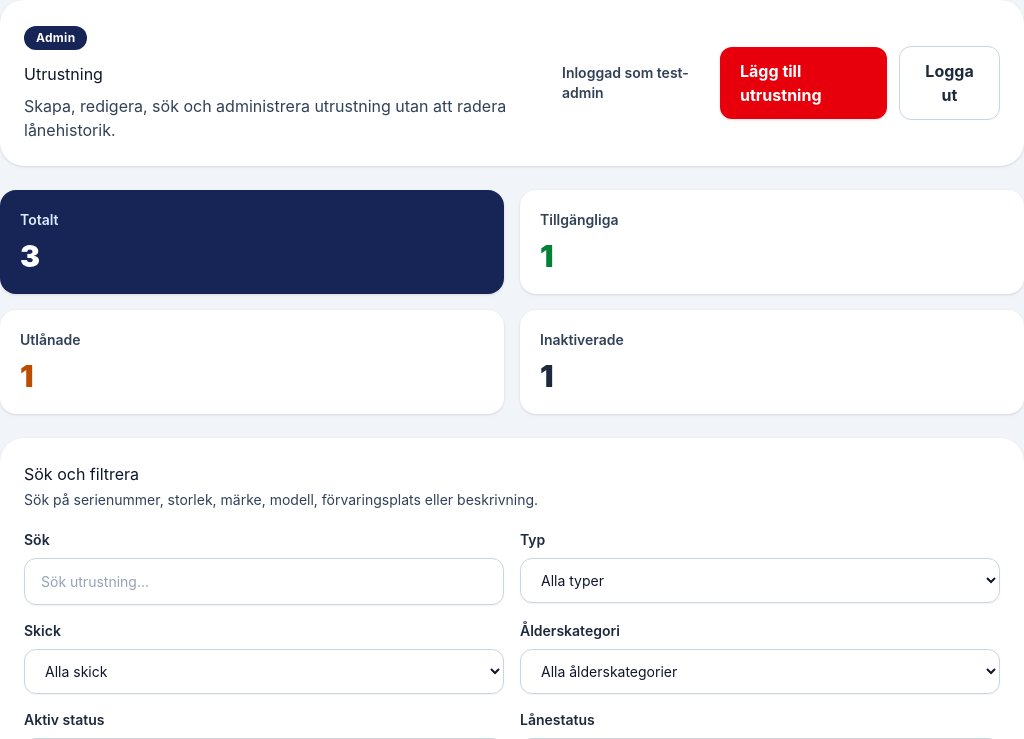
Test: AdminPage › searches across brand, model and storage location
Type "Warrior" into the search field labelled "Sök" at (264, 582), box [24,558,504,605]
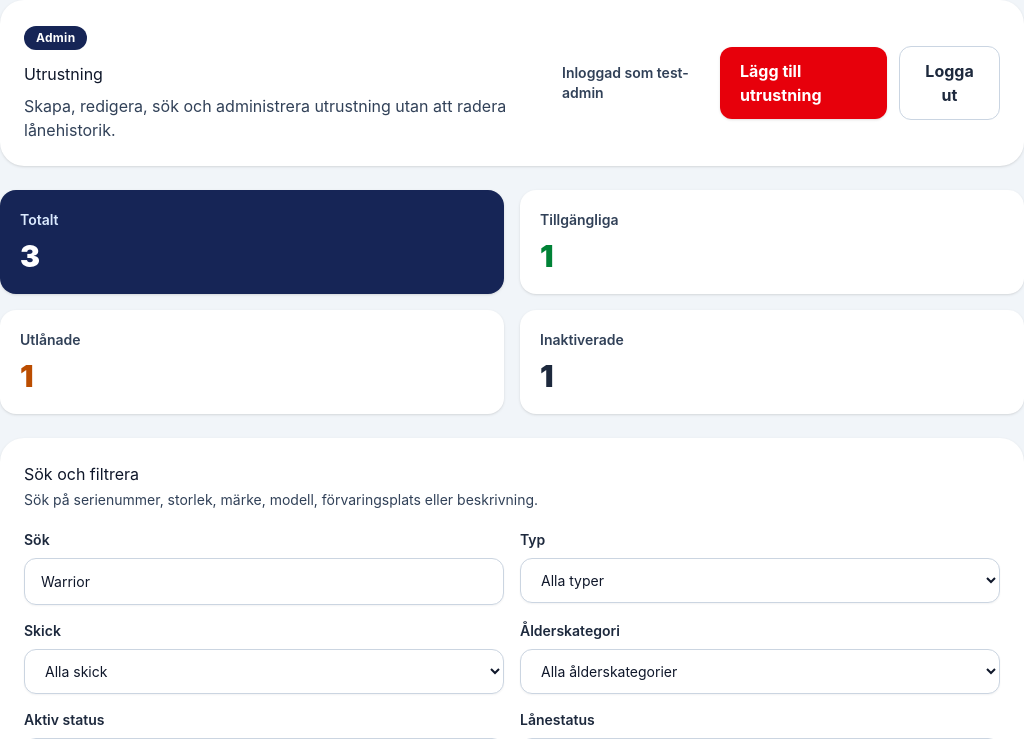
Replace the text in the search field labelled "Sök" with "Hylla B1" at (264, 582), box [24,558,504,605]
(page scrolled)
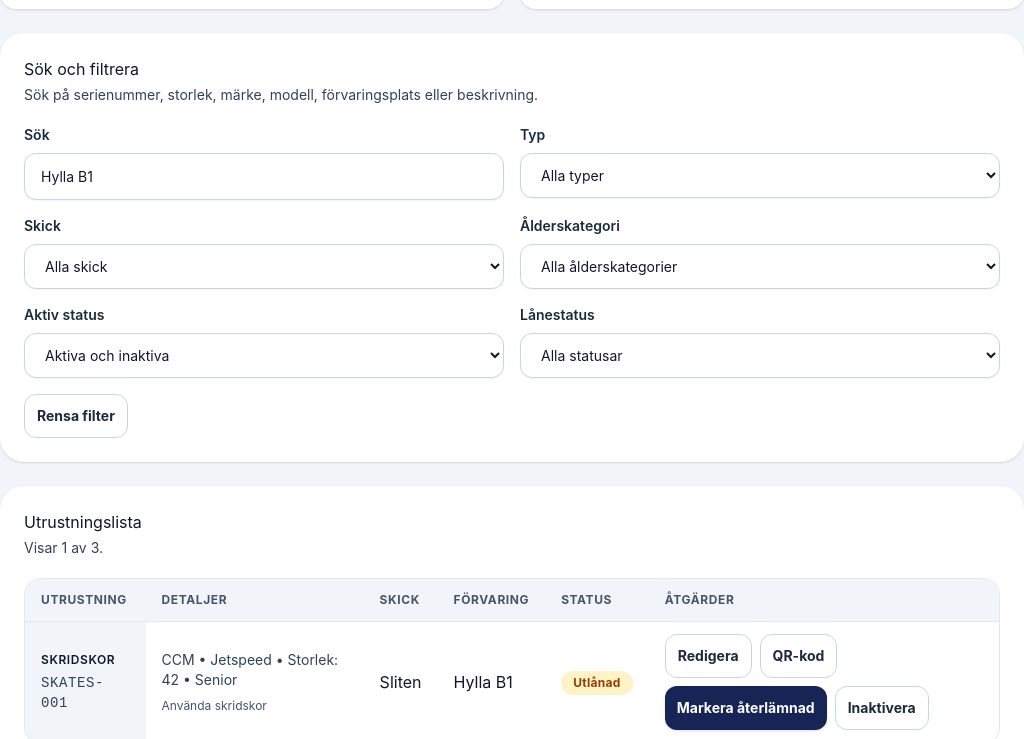
expect the text "SKATES-001" is shown: met, box [41,675,104,711]
